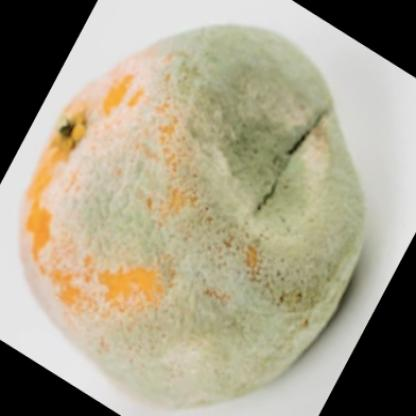rotten: (18, 25, 366, 407)
